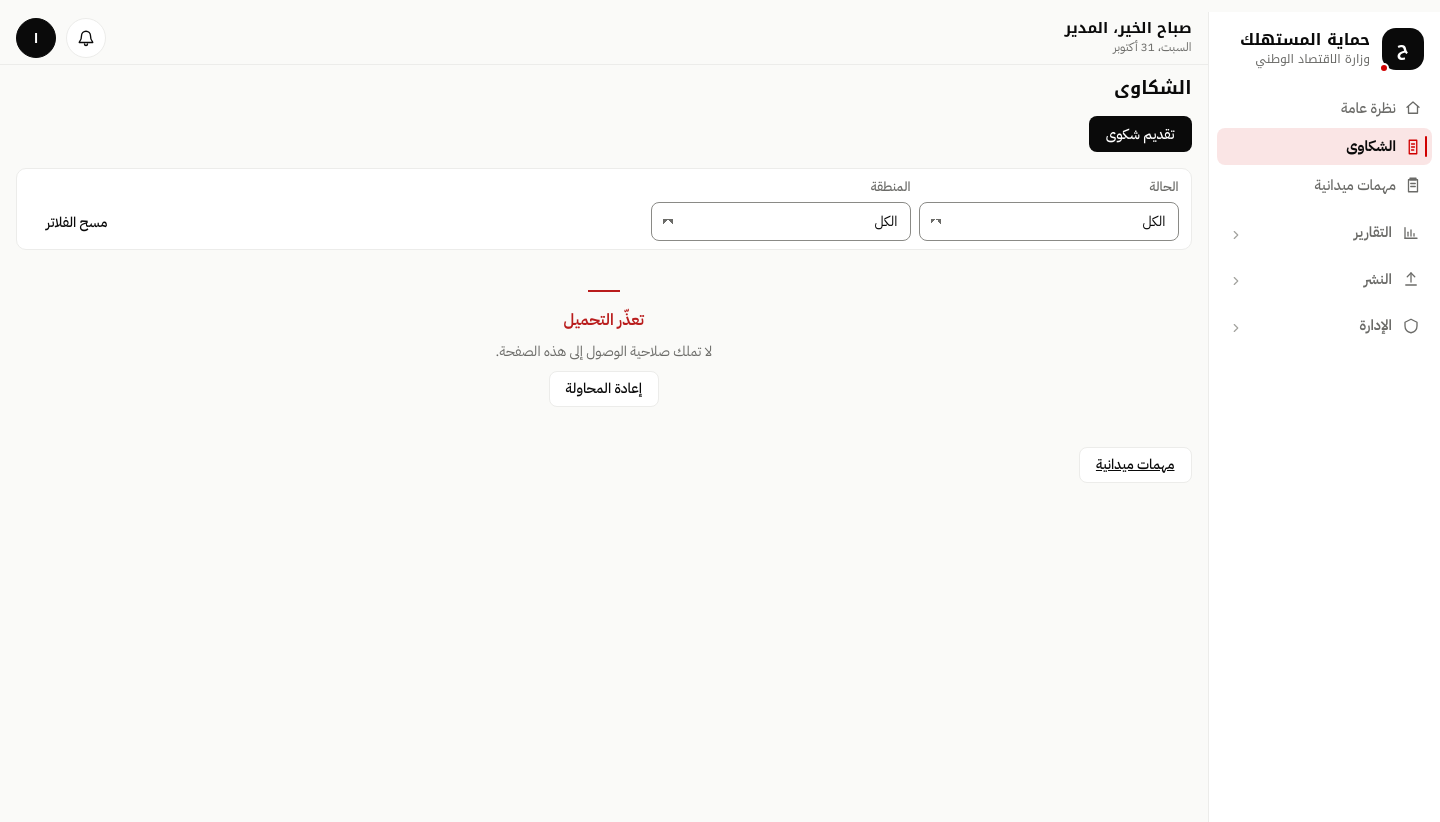
Test case: closes the bell and the user menu when the click is outside them
This screenshot has width=1440, height=822.
Click the button named "حساب المستخدم". click: [36, 38]
box: 16,18 -> 56,58
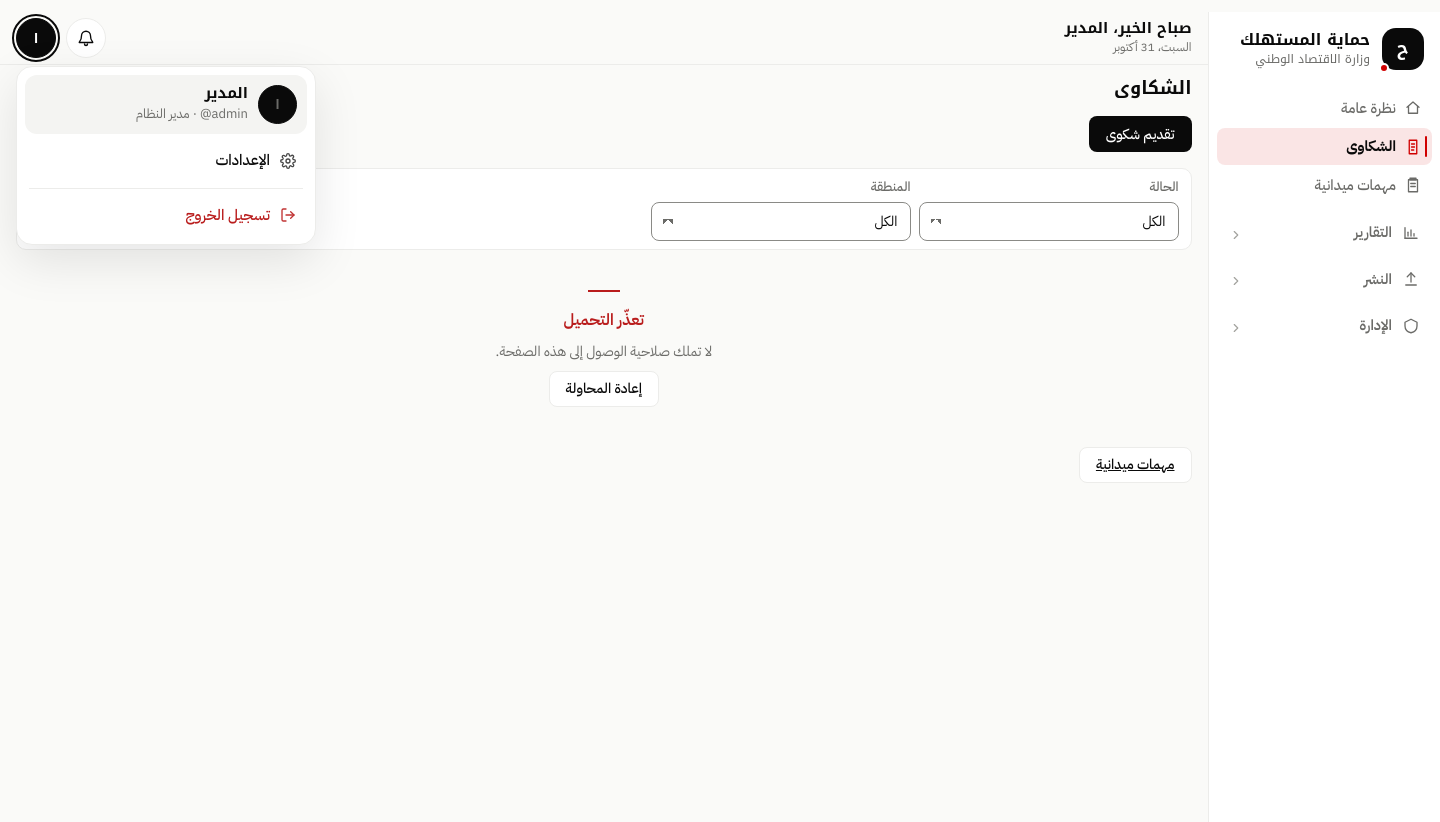
Result: the link "الإعدادات" is shown at 215,149 -> 296,171
Click the heading "الشكاوى". click: [1153, 88]
box: 1114,71 -> 1192,105
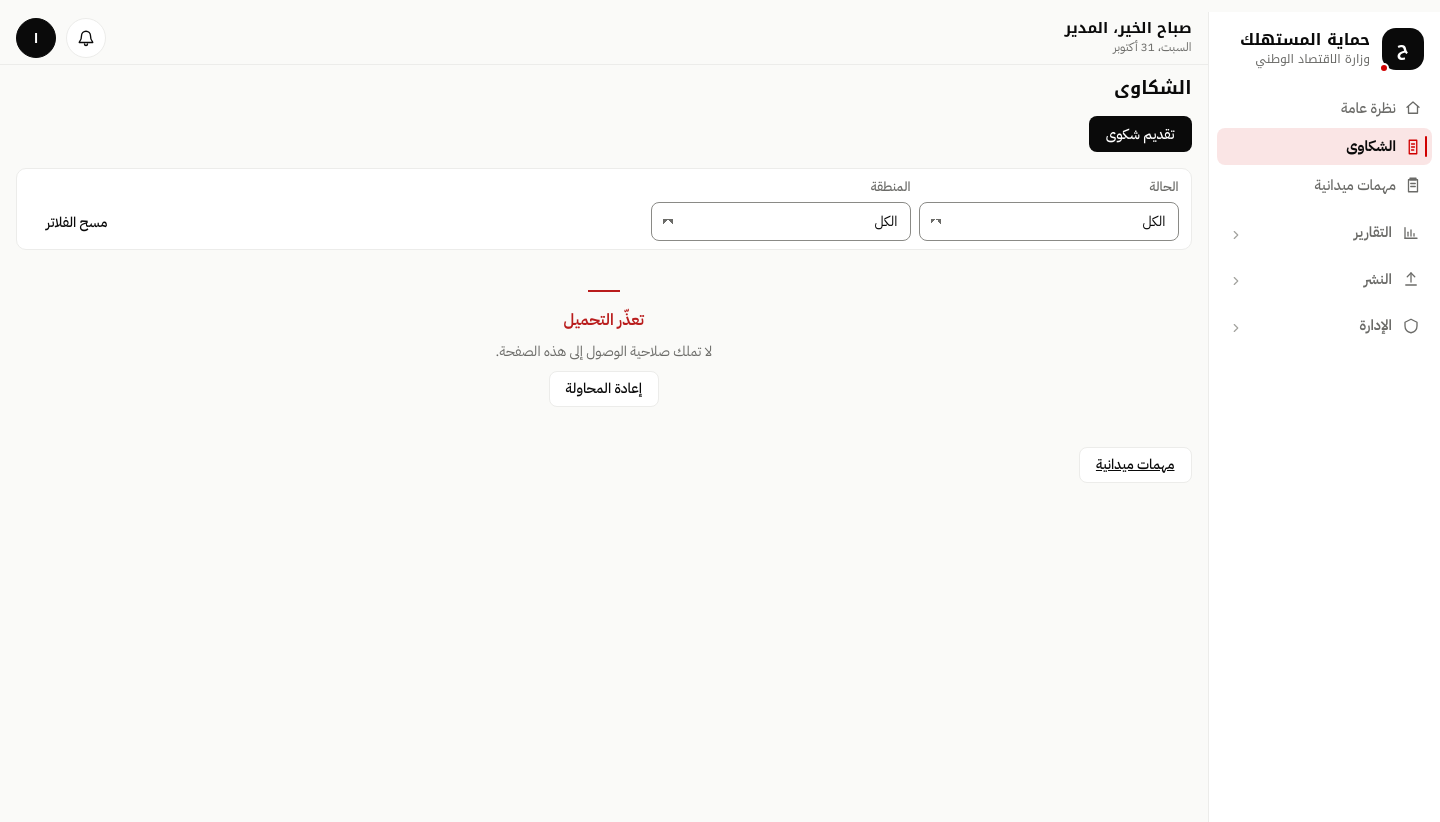
Result: the link "الإعدادات" is gone
Click the button named "الإشعارات". click: [86, 38]
box: 66,18 -> 106,58
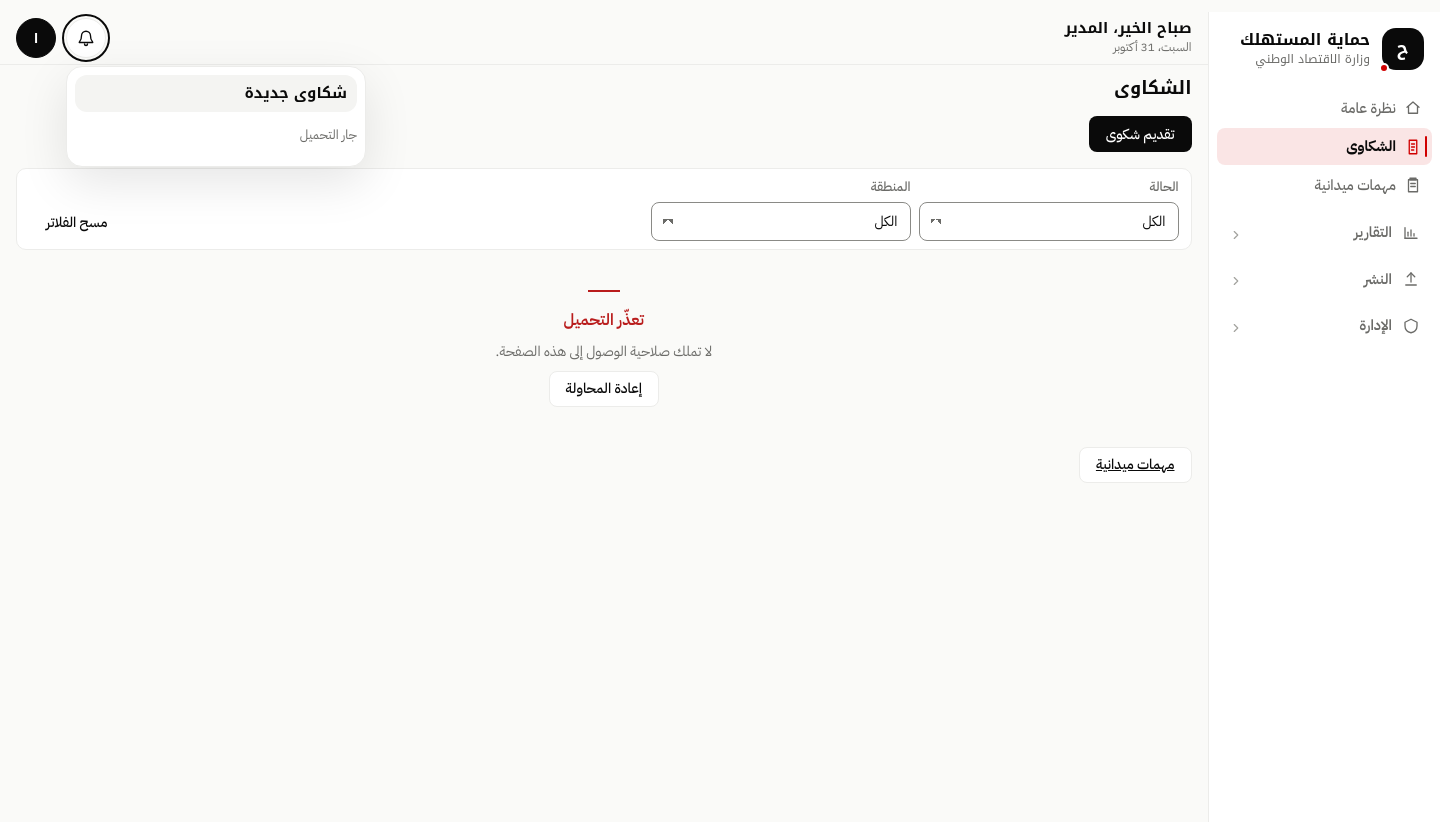
Result: the text "شكاوى جديدة" is shown at 244,85 -> 347,102
Click the heading "الشكاوى". click: [1153, 88]
box: 1114,71 -> 1192,105
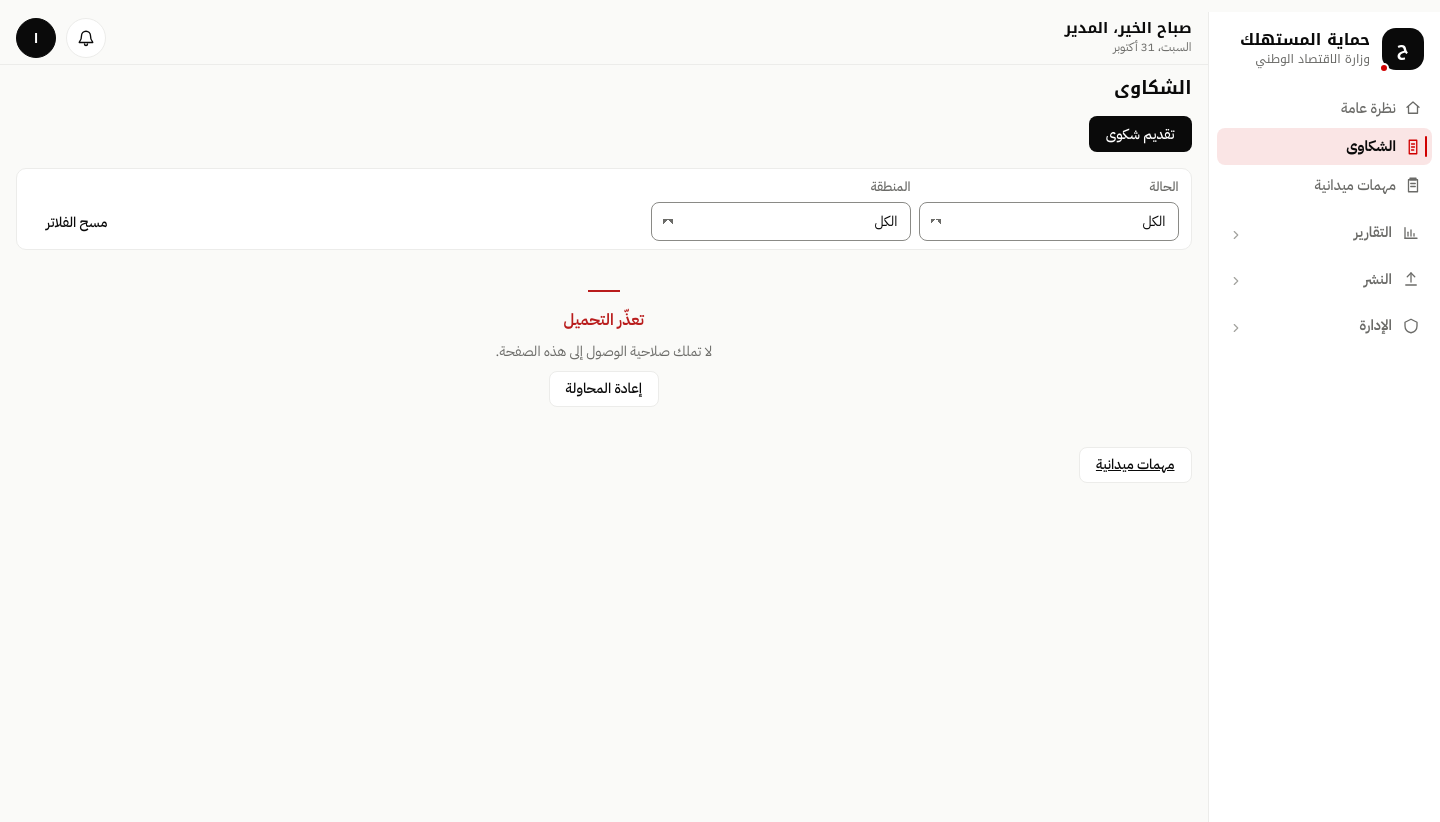
Result: the text "شكاوى جديدة" is gone
